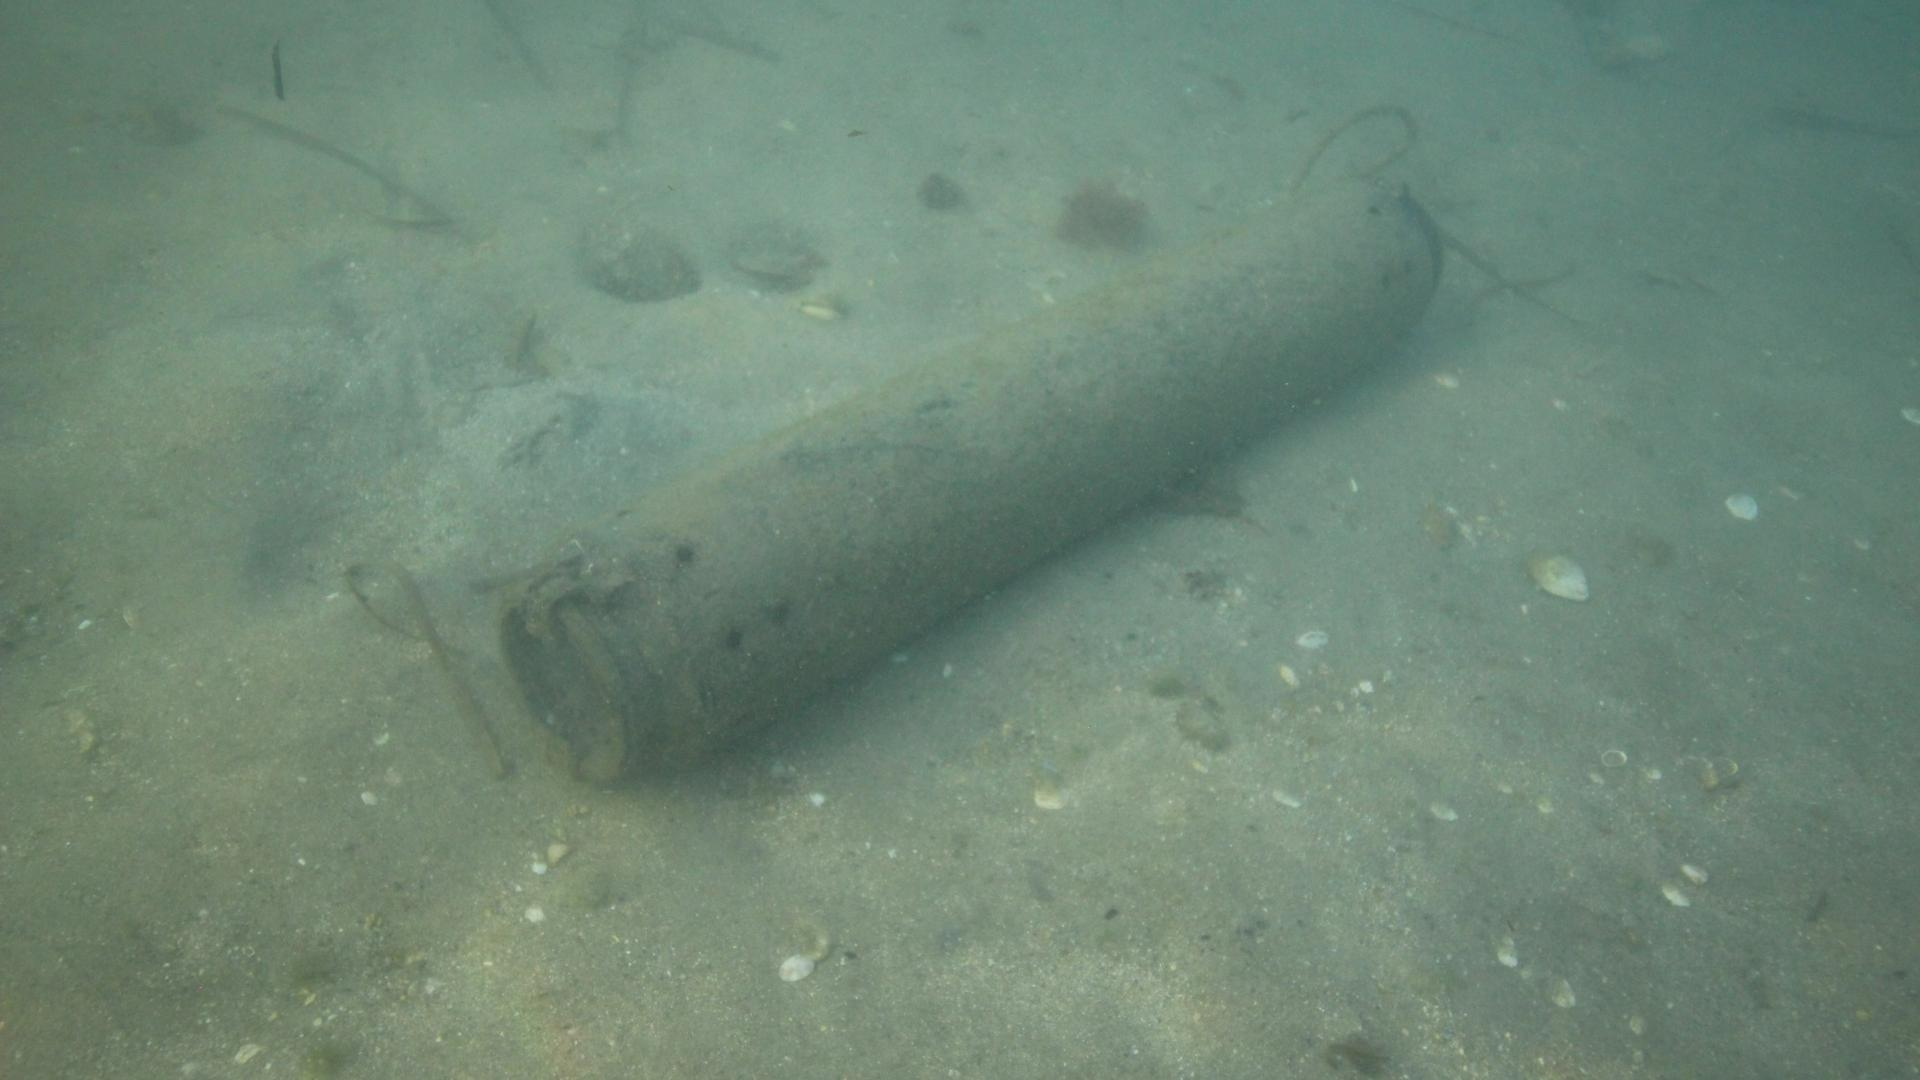eel fish trap: (497, 175, 1448, 790)
rope: (1288, 98, 1418, 179)
